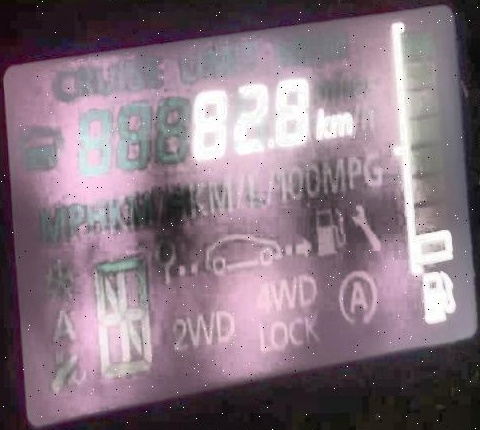-: (265, 136, 273, 150)
2: (232, 81, 269, 153)
8: (191, 87, 228, 160), (273, 76, 308, 147)
X: (329, 111, 352, 137), (314, 107, 330, 140)
